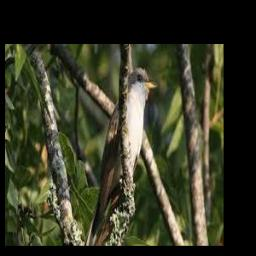Cuckoo: (84, 68, 158, 246)
